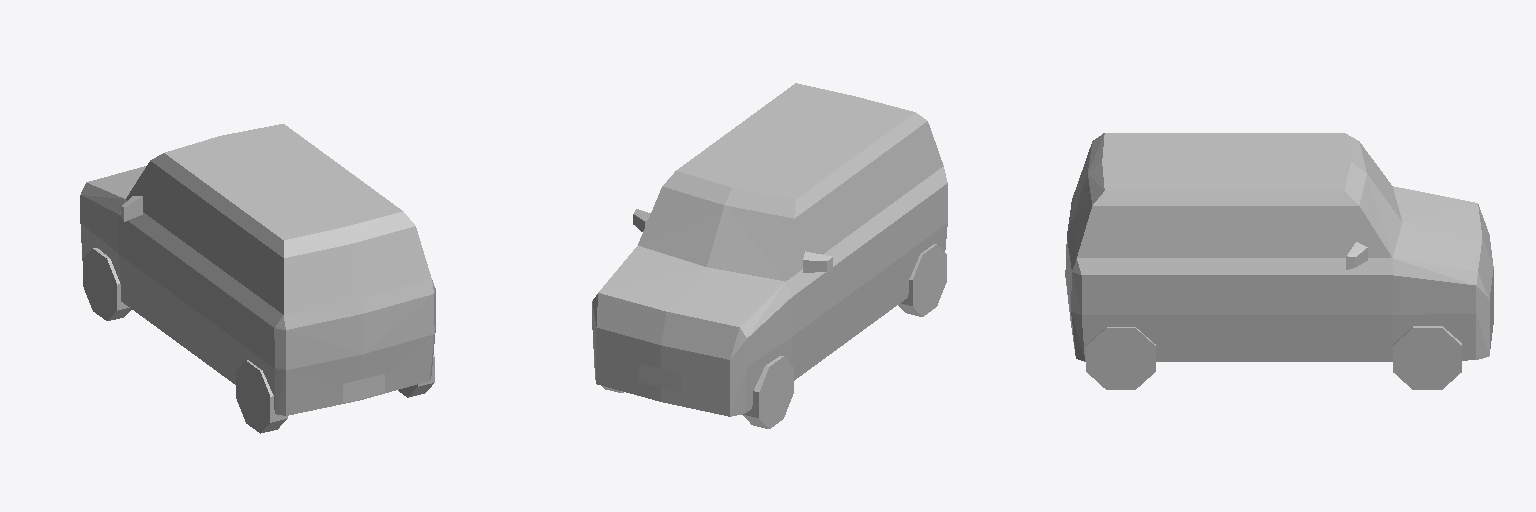
File: ecar00.obj
3 views of the same model, side by side, from view 1: azimuth 30°, elevation 25°; view 2: azimuth 150°, elevation 25°; view 3: azimuth 270°, elevation 25° (orthographic).
Parts seen in each view (by area): view 1: Box001; view 2: Box001; view 3: Box001.
Part boxes in pixels (left/top/right/bottom): Box001: left=80, top=124, right=435, bottom=433; Box001: left=592, top=83, right=947, bottom=428; Box001: left=1065, top=133, right=1493, bottom=389.
Bounding box in the file's own units: 1.8 × 1.65 × 3.41.